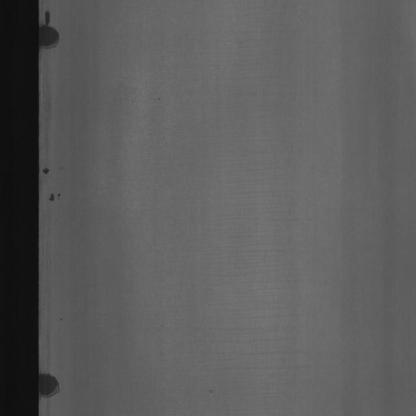oil_spot: (41, 324, 66, 416), (38, 12, 69, 61)
